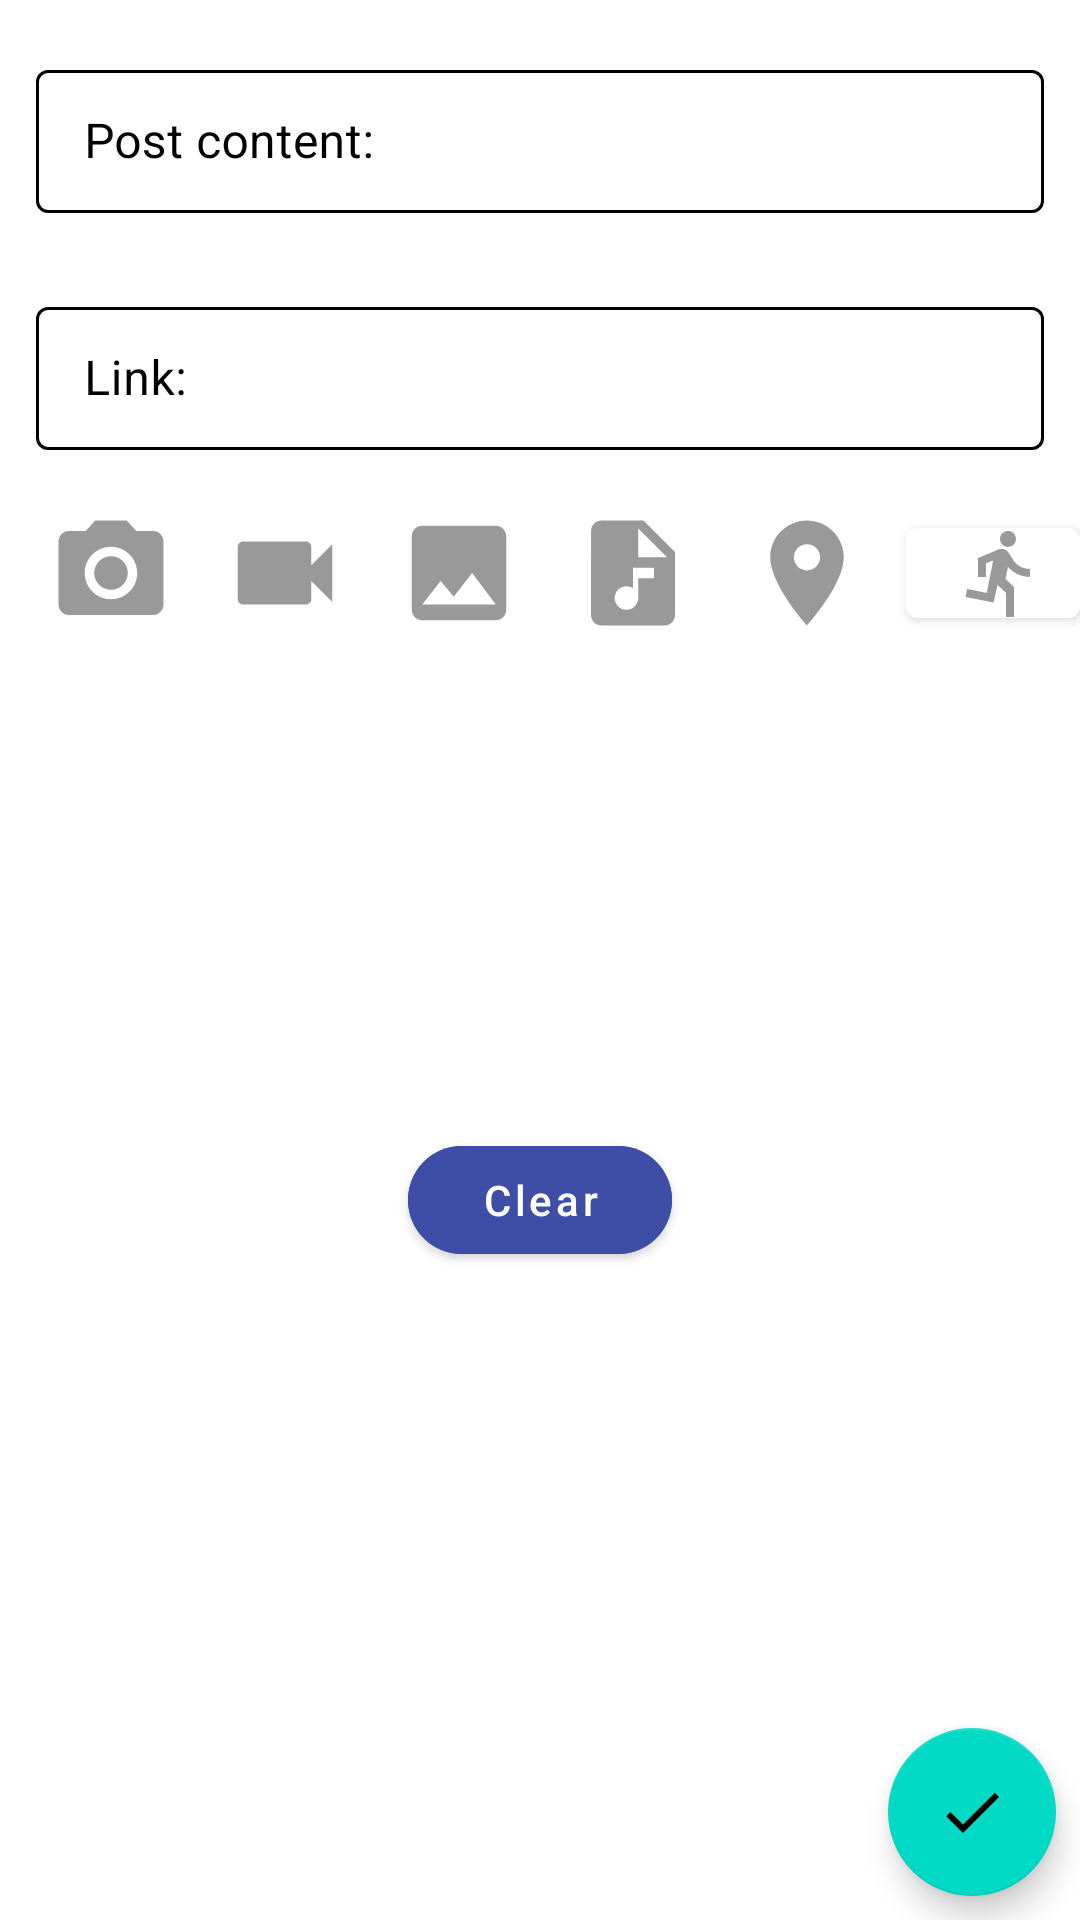

Screen size 1080 × 1920. Icon name, then its center in pixels as (x=x, y=y):
audio: (x=633, y=573)
choose from gallery: (x=459, y=573)
coords: (x=807, y=572)
take photo: (x=111, y=567)
video: (x=285, y=573)
